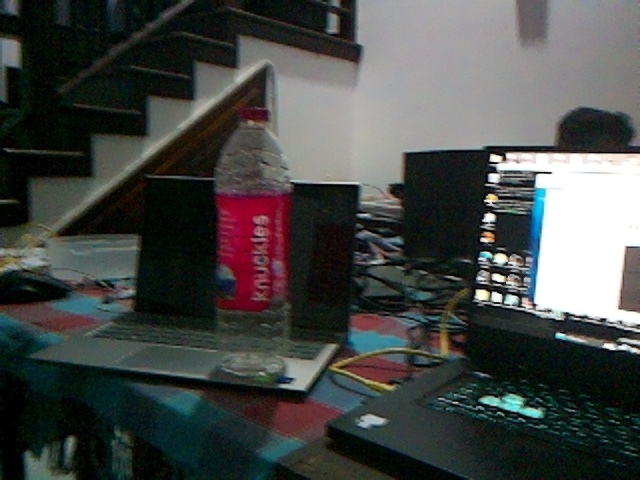bottle: (210, 105, 294, 381)
